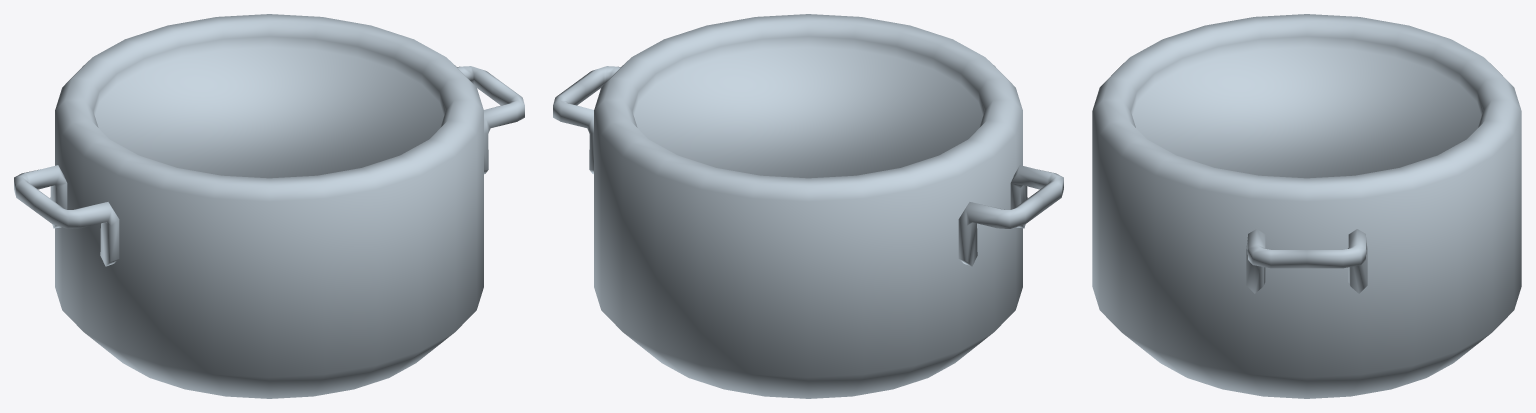
The model's file is Environment_Pot_1_Filled.glb.
The picture shows the model from 3 angles, left to right: view 1: azimuth 30°, elevation 25°; view 2: azimuth 150°, elevation 25°; view 3: azimuth 270°, elevation 25°; orthographic projection.
Parts seen in each view (by area): view 1: Environment_Pot_1_Filled, Environment_Pot_1_Filled.002, Environment_Pot_1_Filled.001; view 2: Environment_Pot_1_Filled, Environment_Pot_1_Filled.002, Environment_Pot_1_Filled.001; view 3: Environment_Pot_1_Filled, Environment_Pot_1_Filled.001.
Part boxes in pixels (<box>): Environment_Pot_1_Filled: <box>55,14,483,398</box>; Environment_Pot_1_Filled.002: <box>14,165,119,266</box>; Environment_Pot_1_Filled.001: <box>457,66,524,174</box>; Environment_Pot_1_Filled: <box>594,14,1022,398</box>; Environment_Pot_1_Filled.002: <box>958,165,1063,266</box>; Environment_Pot_1_Filled.001: <box>553,66,620,174</box>; Environment_Pot_1_Filled: <box>1092,14,1521,398</box>; Environment_Pot_1_Filled.001: <box>1246,229,1367,293</box>.
Size of the model in its own units: 1.58 by 0.731 by 1.25.
